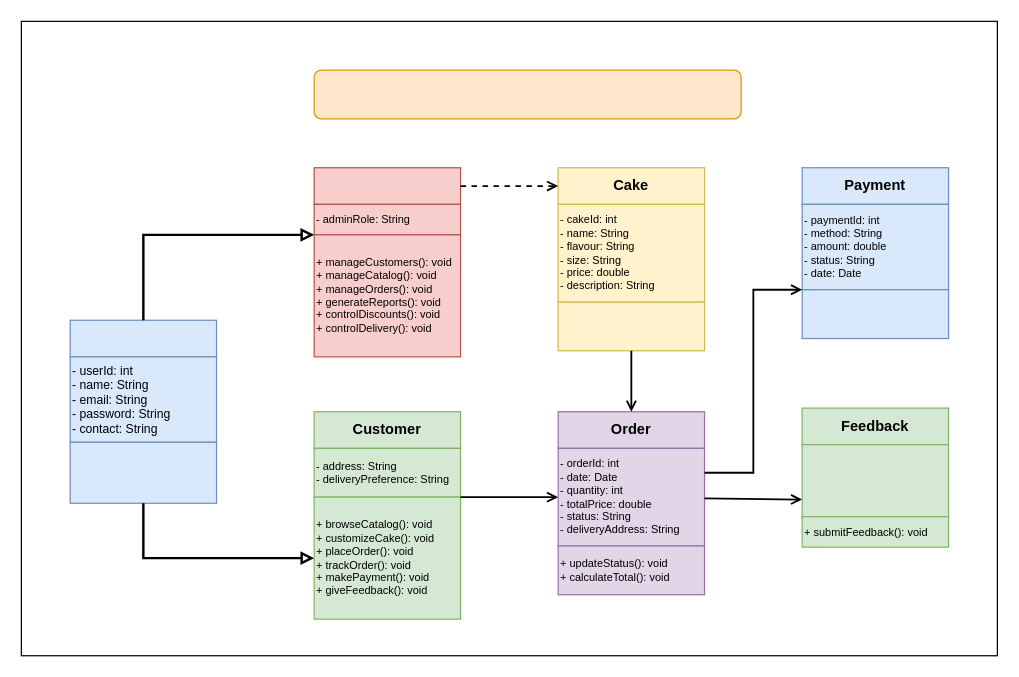
Some shapes in this 1019 by 677 pixel diagram are drawn without their labels. Each missing label, with the centre of its shape:
+ getDetails(): void + updateDetails(): void: point 631,326
+ processPayment(): void + refundPayment(): void: point 875,314
+ register(): void + login(): void + updateProfile(): void: point 143,472
- feedbackId: int - rating: int - comment: String - date: Date: point 875,480
Admin: point 387,185
Cake Master - Domain Model: point 527,94
User: point 143,338
